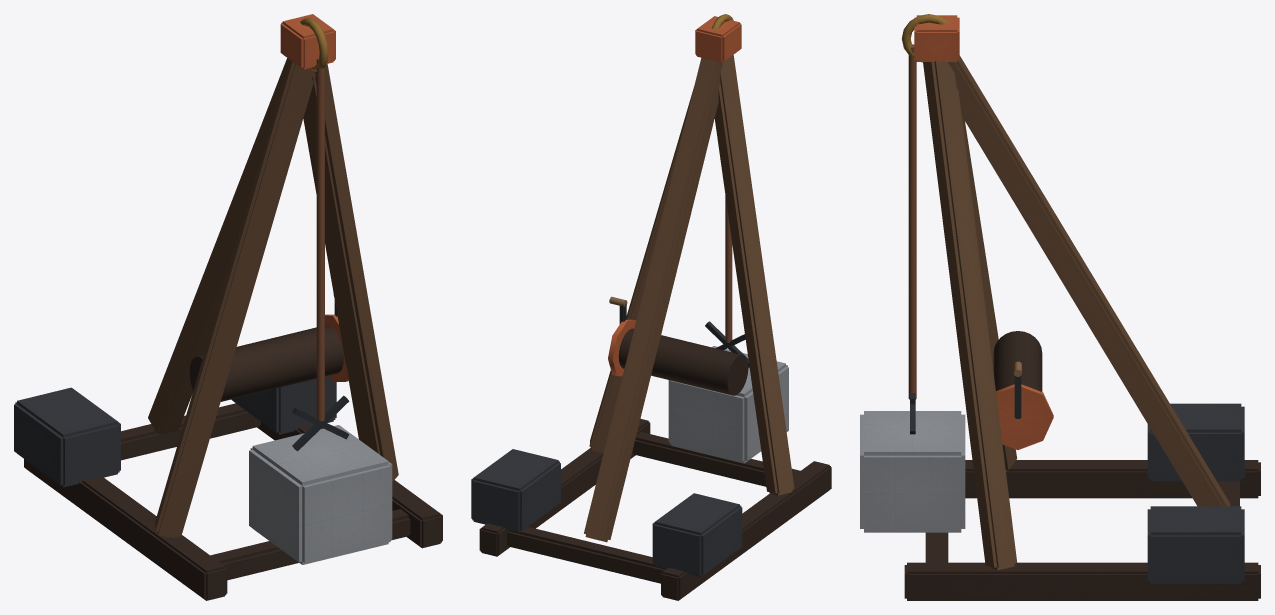
The model's file is quarry_crane_derrick.glb.
3 views of the same model, side by side, from view 1: azimuth 30°, elevation 25°; view 2: azimuth 150°, elevation 25°; view 3: azimuth 270°, elevation 25° (orthographic). The views are drawn at different scales.
Visible parts, largest first — view 1: quarry_crane_derrick; view 2: quarry_crane_derrick; view 3: quarry_crane_derrick.
Part boxes in pixels (x1,y1,x2,y2): quarry_crane_derrick: (14, 14, 442, 600); quarry_crane_derrick: (471, 14, 831, 600); quarry_crane_derrick: (860, 14, 1260, 600).
Size of the model in its own units: 1.92 by 3.62 by 2.48.
1 material, 1 textured.
